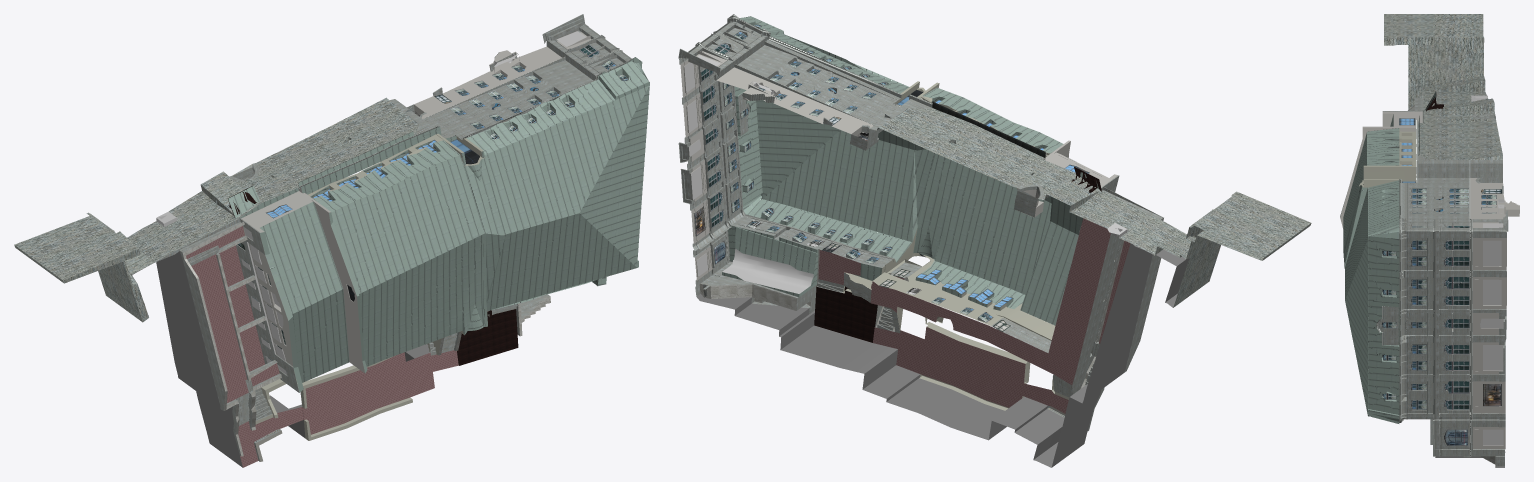
The model's file is Harju_6_1-origo.obj.
3 views of the same model, side by side, from view 1: azimuth 30°, elevation 25°; view 2: azimuth 150°, elevation 25°; view 3: azimuth 270°, elevation 25° (orthographic). The views are drawn at different scales.
Visible parts, largest first — view 1: Harju_6_1; view 2: Harju_6_1; view 3: Harju_6_1.
Part boxes in pixels (<box>): Harju_6_1: <box>14,14,649,467</box>; Harju_6_1: <box>678,14,1311,467</box>; Harju_6_1: <box>1340,14,1519,467</box>.
Bounding box in the file's own units: 92.25 × 50.5 × 24.13.
